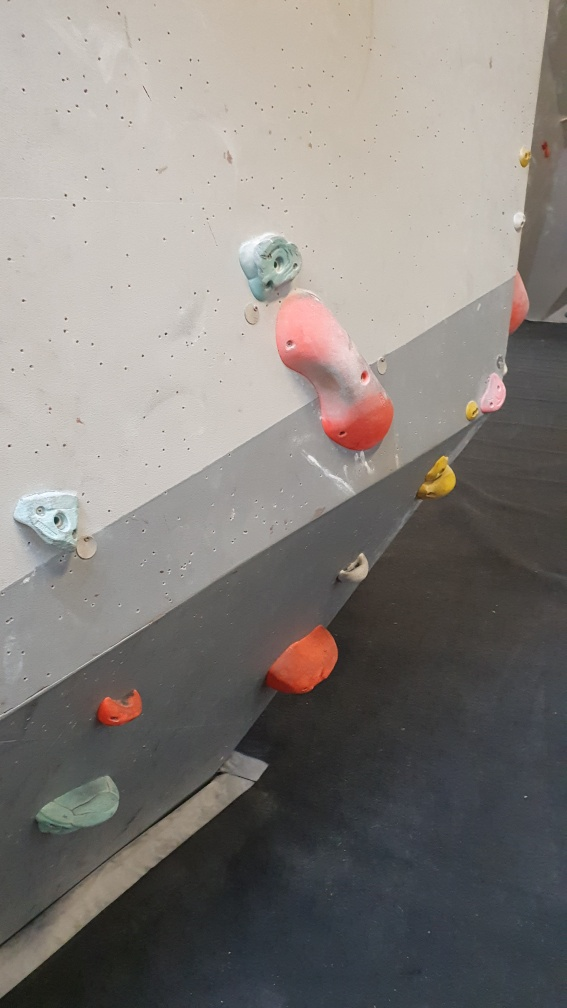Pinch: (275, 283, 395, 455)
